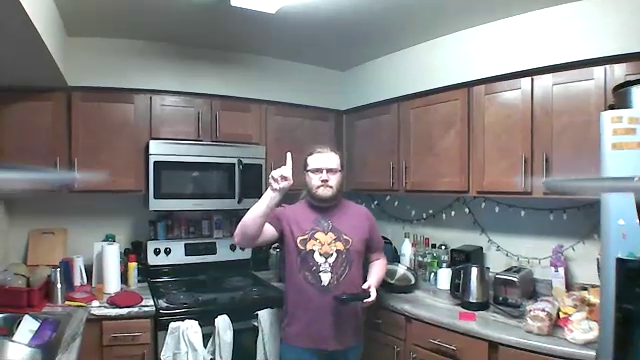up: (264, 150, 294, 192)
